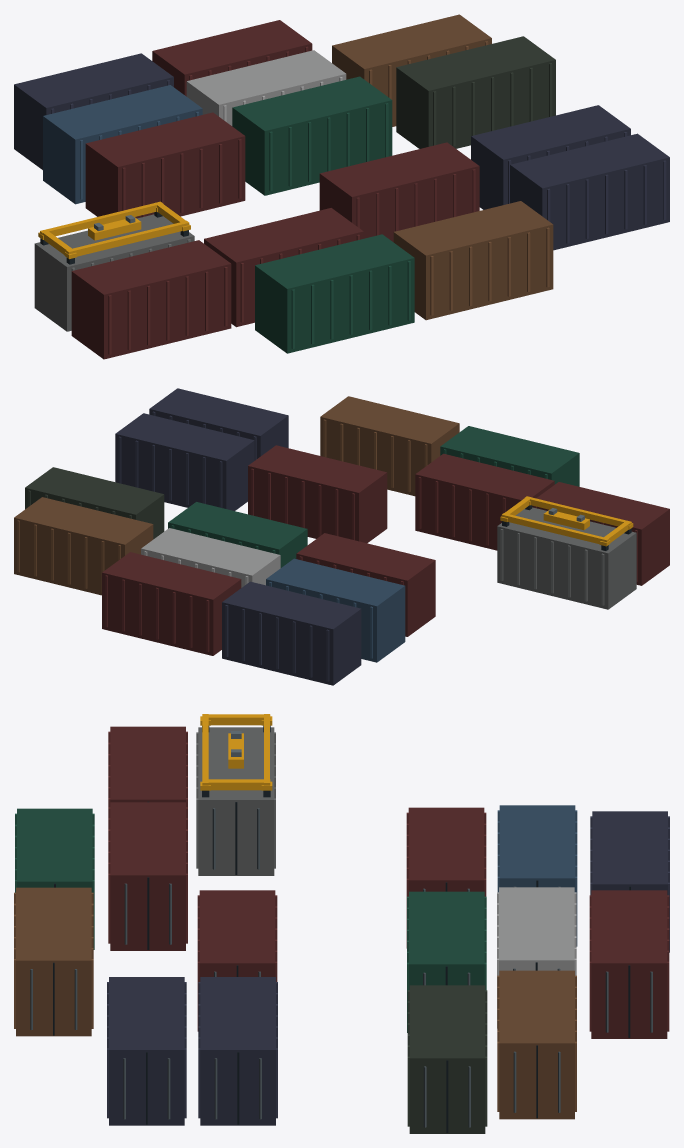
File: containers-e-w-01.glb
3 views of the same model, one above another, from view 1: azimuth 30°, elevation 25°; view 2: azimuth 150°, elevation 25°; view 3: azimuth 270°, elevation 25° (orthographic). The views are drawn at different scales.
Visible parts, largest first — view 1: containers-e-w-01; view 2: containers-e-w-01; view 3: containers-e-w-01.
Part boxes in pixels (left/top/right/bottom): containers-e-w-01: left=14, top=14, right=669, bottom=359; containers-e-w-01: left=14, top=388, right=669, bottom=685; containers-e-w-01: left=14, top=714, right=669, bottom=1133.
Bounding box in the file's own units: 60.21 × 8.25 × 50.22.
